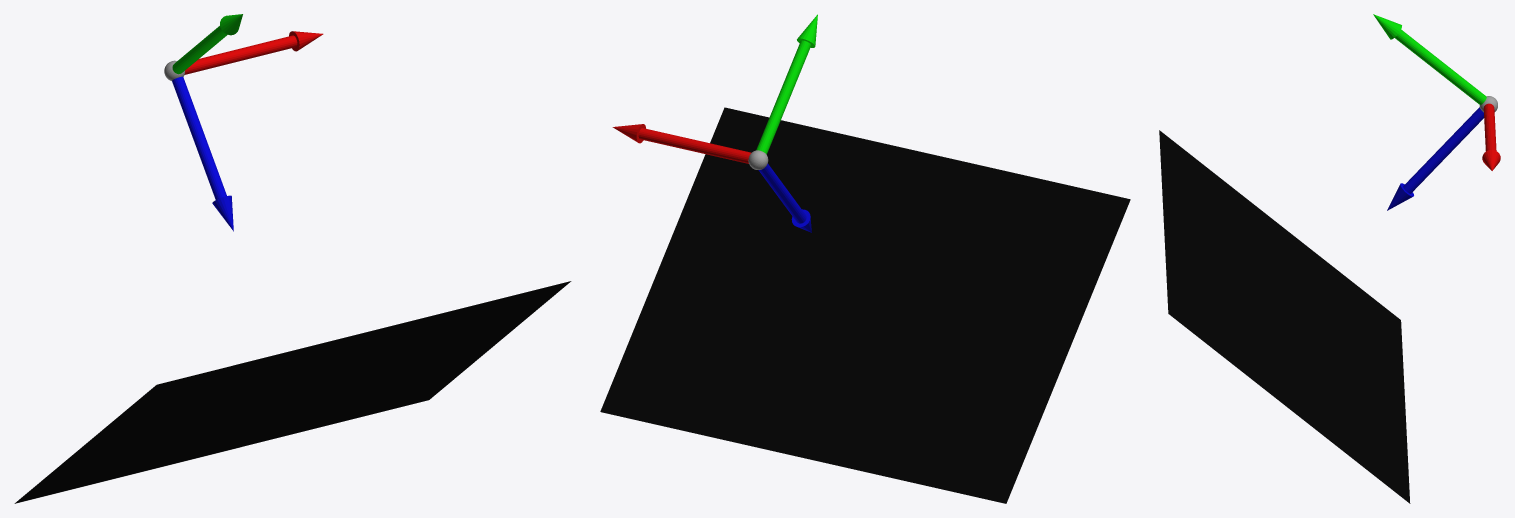
The picture shows the model from 3 angles, left to right: view 1: azimuth 30°, elevation 25°; view 2: azimuth 150°, elevation 25°; view 3: azimuth 270°, elevation 25°; orthographic projection. The views are drawn at different scales.
Bounding box in the file's own units: 0.3528 × 0.3573 × 0.2762.
